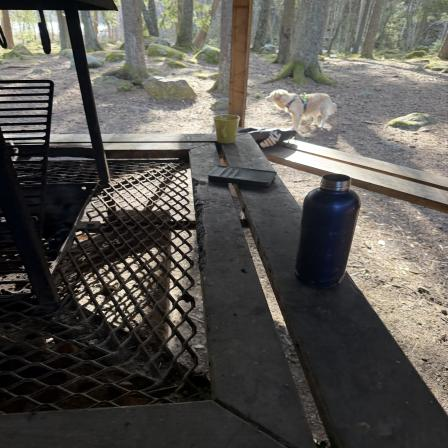blue_bottle: (300, 173, 359, 291)
phone: (207, 165, 278, 190)
yellow_cup: (214, 114, 242, 146)
